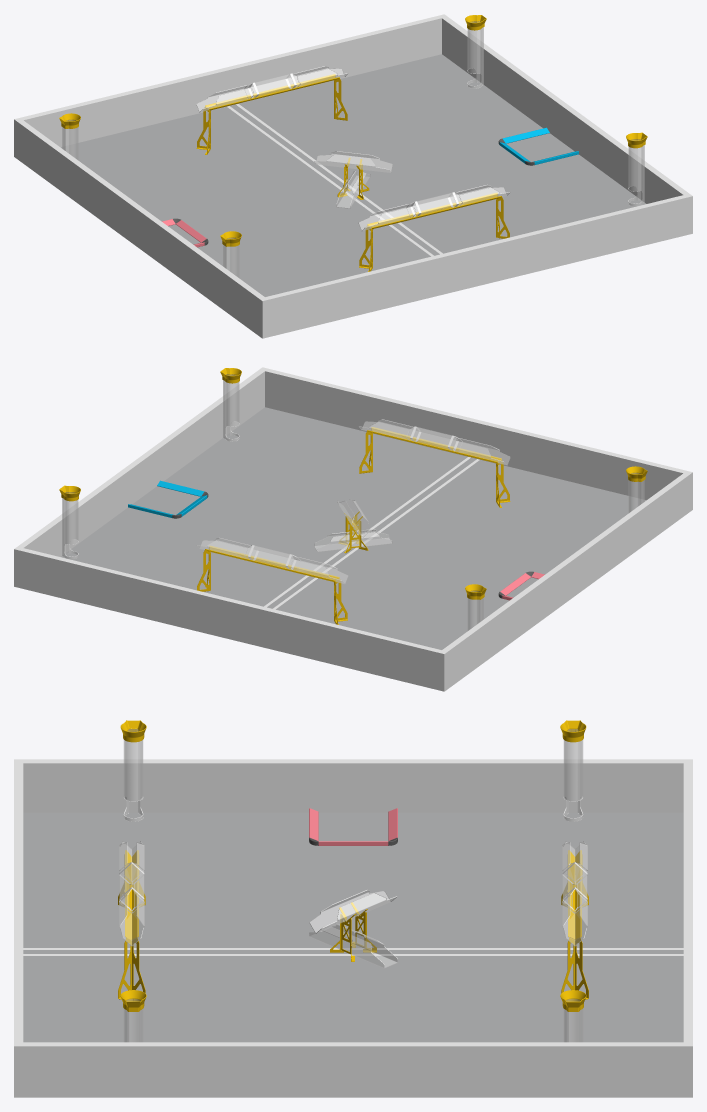
The model's file is Push Back Field.fbx.
3 renders of one model, top to bottom at view 1: azimuth 30°, elevation 25°; view 2: azimuth 150°, elevation 25°; view 3: azimuth 270°, elevation 25°, orthographic. The views are drawn at different scales.
Visible parts, largest first — view 1: mesh65; view 2: mesh65; view 3: mesh65.
Boxes of the visible parts, <box> form: mesh65: <box>14,14,692,338</box>; mesh65: <box>14,367,692,691</box>; mesh65: <box>14,720,692,1097</box>.
Size of the model in its own units: 367 by 55.47 by 367.
